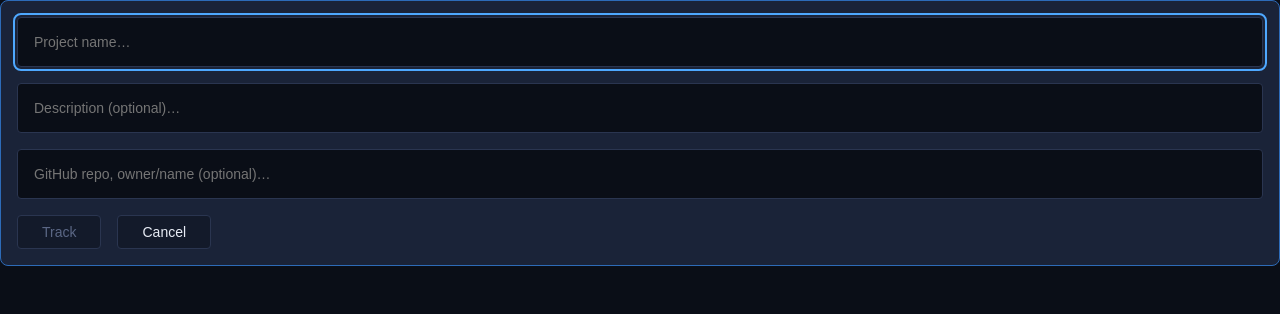
Test: ProjectForm › renders the API's own error message on failure
Step 1. Type "x" into the field with placeholder "Project name…" → (640, 42), box [17, 17, 1263, 67]
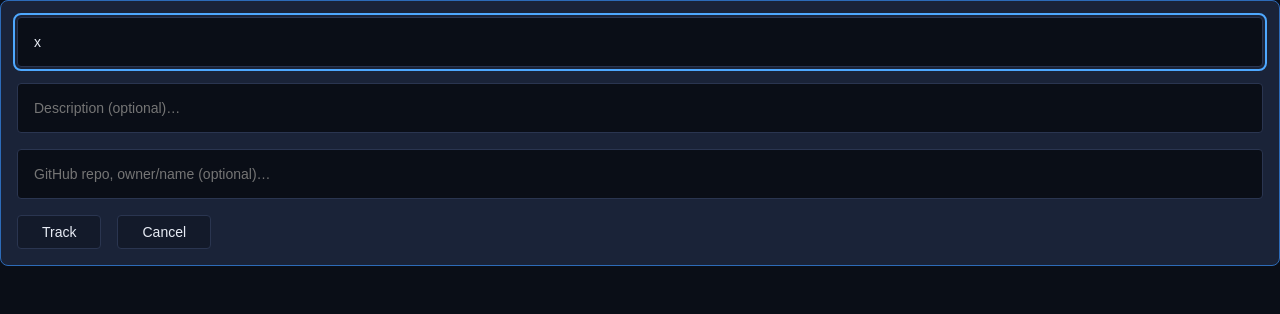
Step 2. Click the button "Track" → (59, 232), box [17, 215, 102, 249]
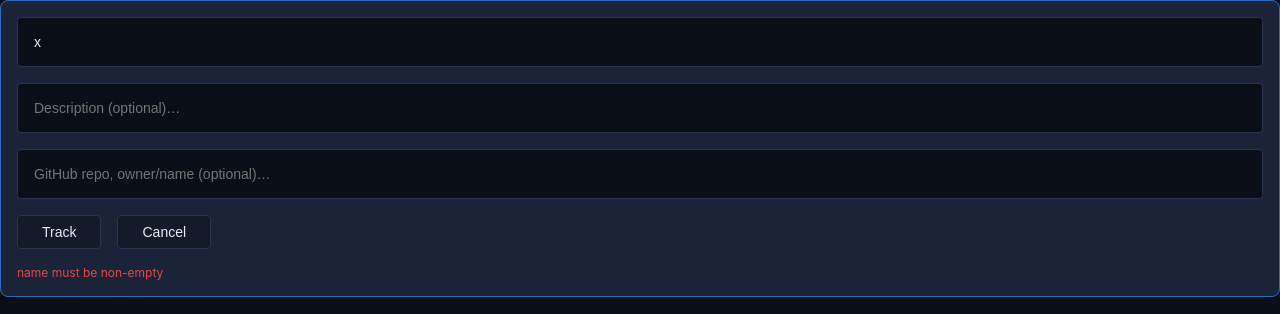
Expected: the text "name must be non-empty" is shown, [17, 265, 163, 280]
